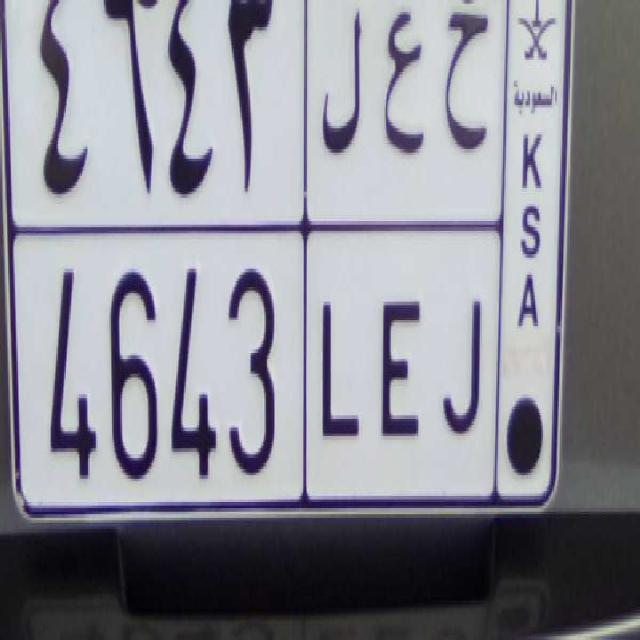license_plate: (6, 224, 502, 513)
